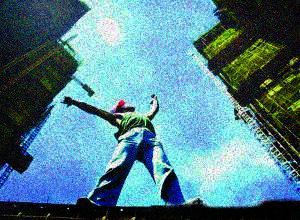helmet: (108, 99, 137, 116)
